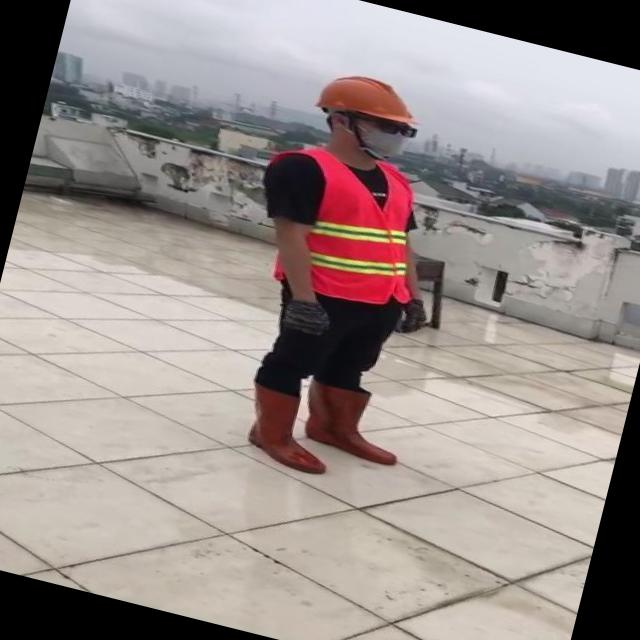hard_hat: (306, 63, 429, 133)
safety_vest: (242, 133, 436, 313)
vehicle: (190, 51, 494, 499)
work_boots: (296, 378, 436, 472), (221, 376, 342, 478)
